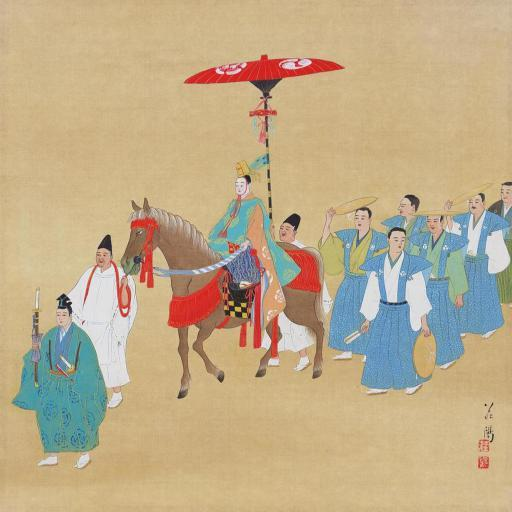Horse: (120, 192, 326, 399)
